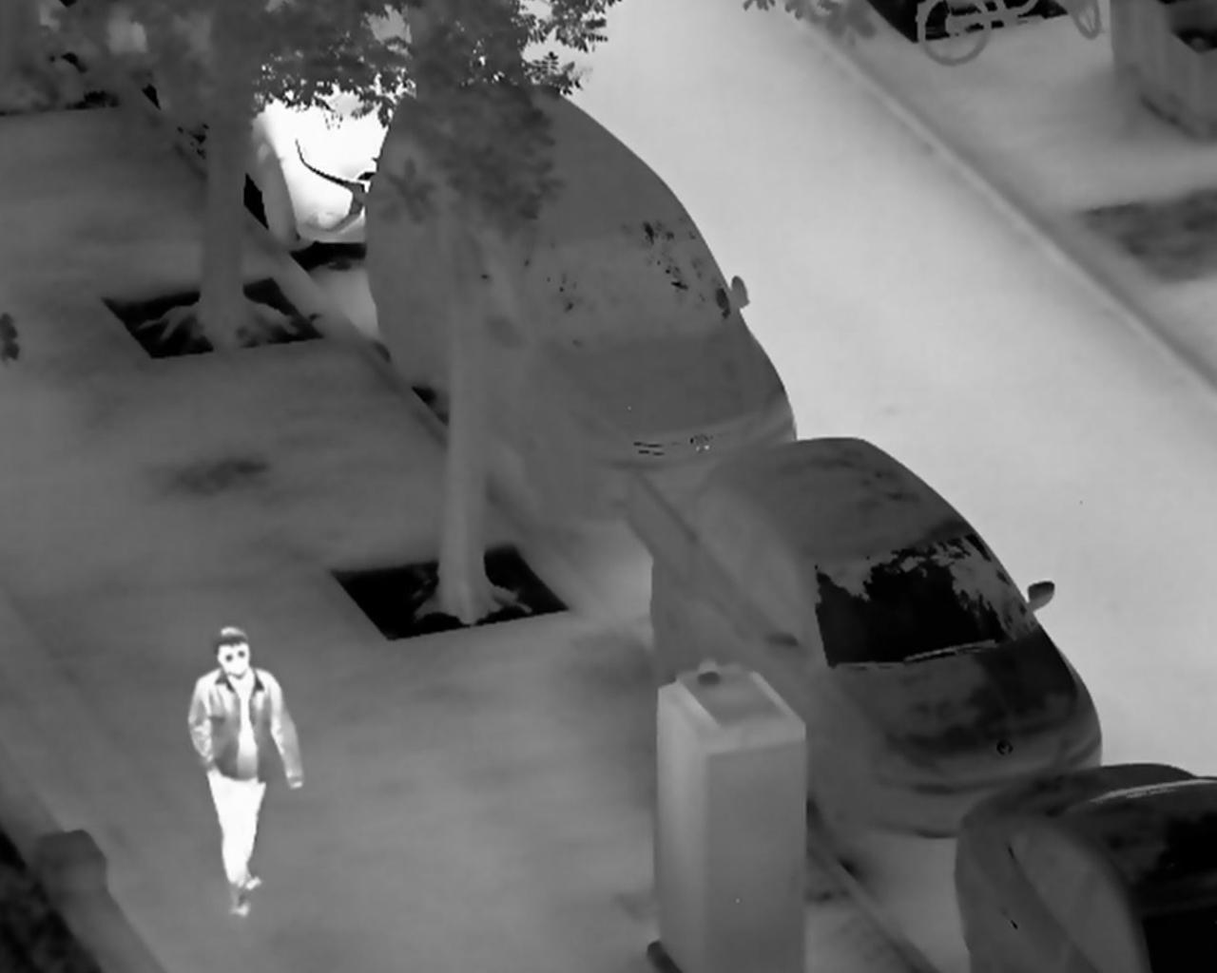person: (182, 627, 309, 918)
